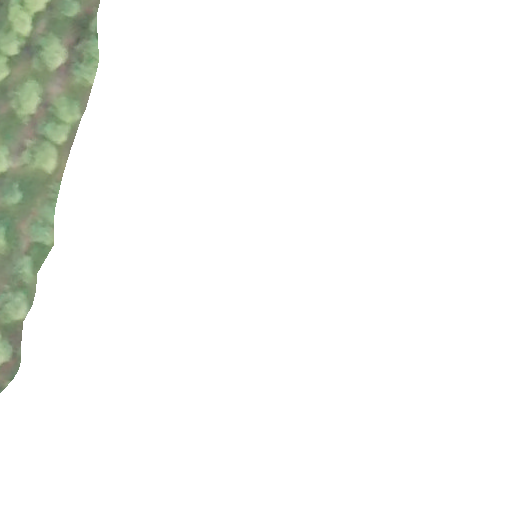eucalipto: (31, 33, 69, 75), (8, 77, 43, 118), (24, 136, 59, 174), (36, 115, 73, 147), (24, 216, 60, 247), (1, 1, 32, 36), (1, 284, 28, 324), (70, 59, 101, 89), (51, 95, 82, 123), (42, 1, 87, 18), (1, 26, 23, 59), (1, 182, 25, 208)
